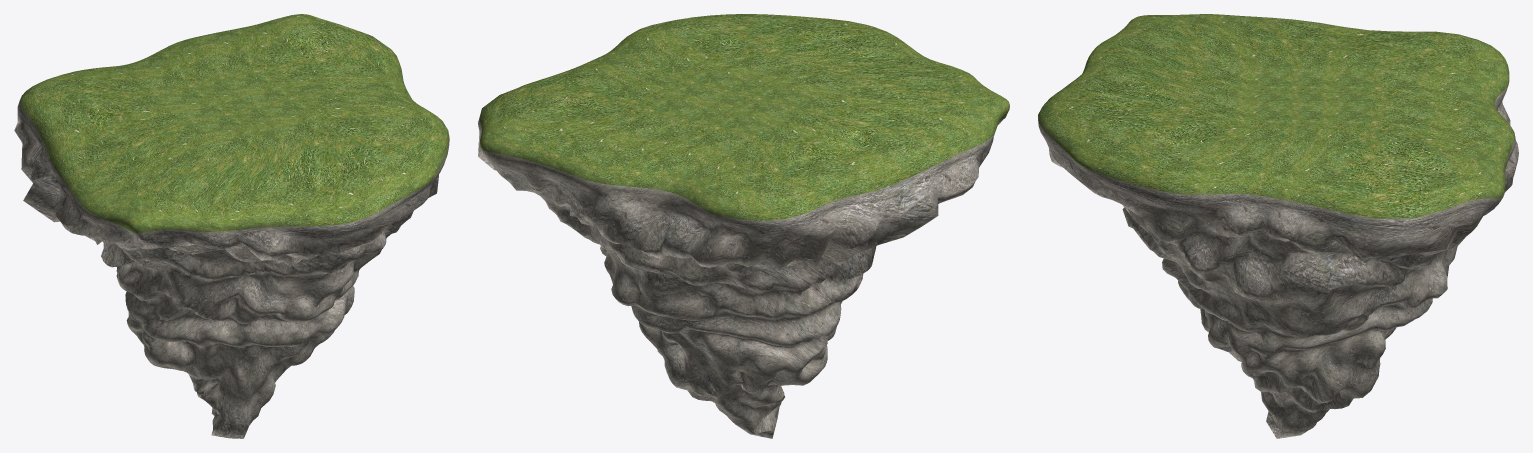
The model's file is Sky Island 1.fbx.
The picture shows the model from 3 angles, left to right: view 1: azimuth 30°, elevation 25°; view 2: azimuth 150°, elevation 25°; view 3: azimuth 270°, elevation 25°; orthographic projection. The views are drawn at different scales.
Visible parts, largest first — view 1: pCube1; view 2: pCube1; view 3: pCube1.
Boxes of the visible parts, <box> form: pCube1: <box>14,14,449,438</box>; pCube1: <box>478,14,1009,438</box>; pCube1: <box>1038,14,1518,438</box>.
Size of the model in its own units: 26.72 by 20.54 by 25.74.
